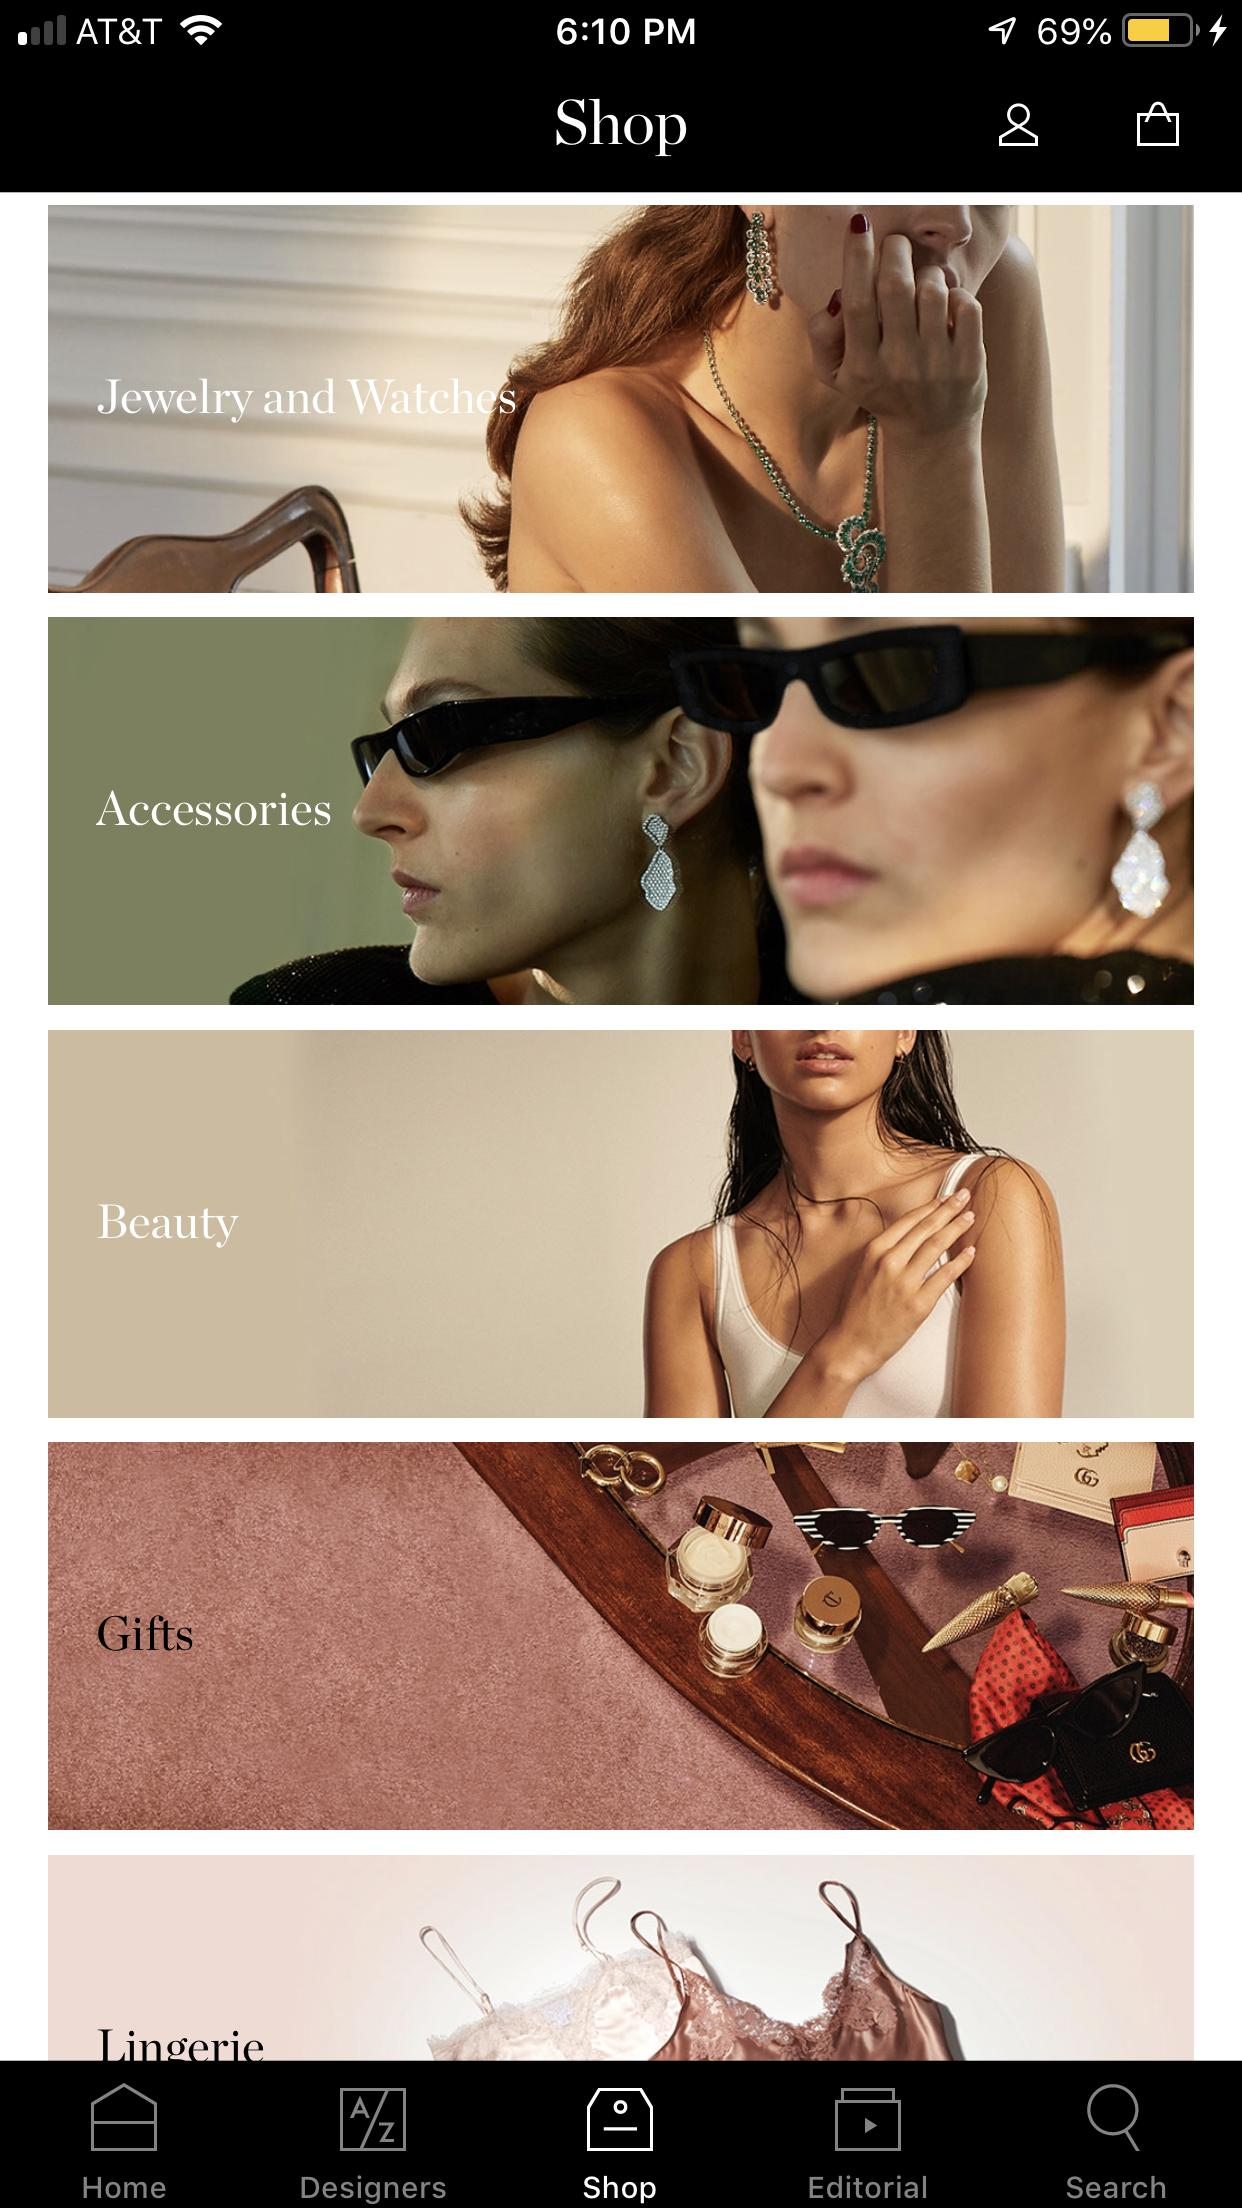Icon: (836, 2087, 902, 2152), (1087, 2084, 1142, 2152), (1136, 102, 1180, 149), (998, 103, 1039, 149)
Image: (49, 1030, 1193, 1419), (49, 617, 1195, 1005), (49, 1442, 1193, 1830), (49, 206, 1193, 593), (49, 1855, 1193, 2059), (89, 2082, 159, 2152), (340, 2087, 408, 2152), (587, 2087, 655, 2152)
Text: (97, 378, 517, 426), (96, 789, 331, 826), (557, 99, 688, 158), (97, 1203, 240, 1250), (97, 2028, 265, 2059), (300, 2175, 447, 2205), (97, 1615, 194, 1651), (808, 2175, 927, 2199), (1066, 2175, 1166, 2199), (582, 2175, 657, 2203), (83, 2176, 167, 2199)
UpperTaskBar: (2, 2, 1242, 52)
